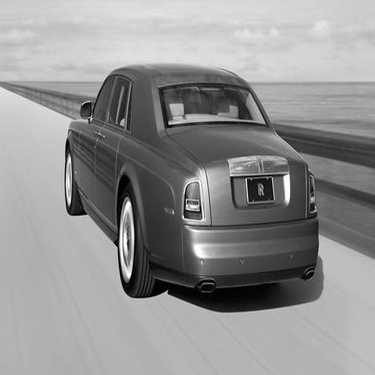car: (51, 55, 327, 304)
